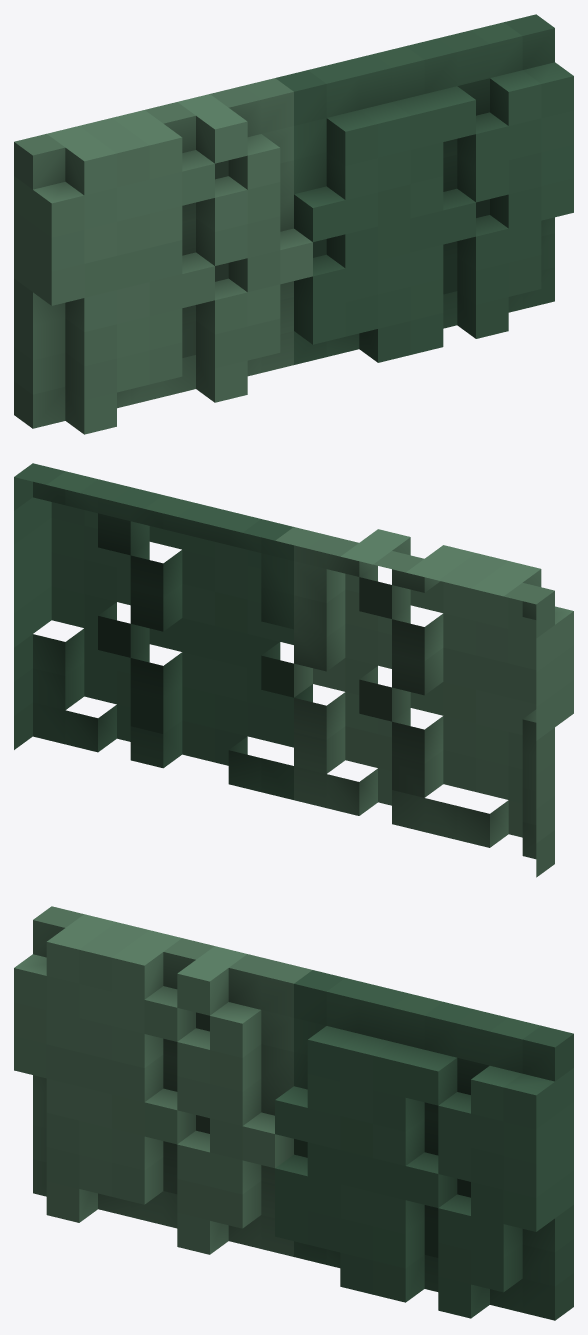
The model's file is ashlar_plain_0.glb.
3 views of the same model, one above another, from view 1: azimuth 30°, elevation 25°; view 2: azimuth 150°, elevation 25°; view 3: azimuth 330°, elevation 25° (orthographic).
Parts seen in each view (by area): view 1: ashlar_plain_0; view 2: ashlar_plain_0; view 3: ashlar_plain_0.
Boxes of the visible parts, left/top/right/bottom form: ashlar_plain_0: left=14, top=14, right=573, bottom=434; ashlar_plain_0: left=14, top=463, right=573, bottom=877; ashlar_plain_0: left=14, top=906, right=573, bottom=1320.
Bounding box in the file's own units: 1 × 0.5 × 0.125.
